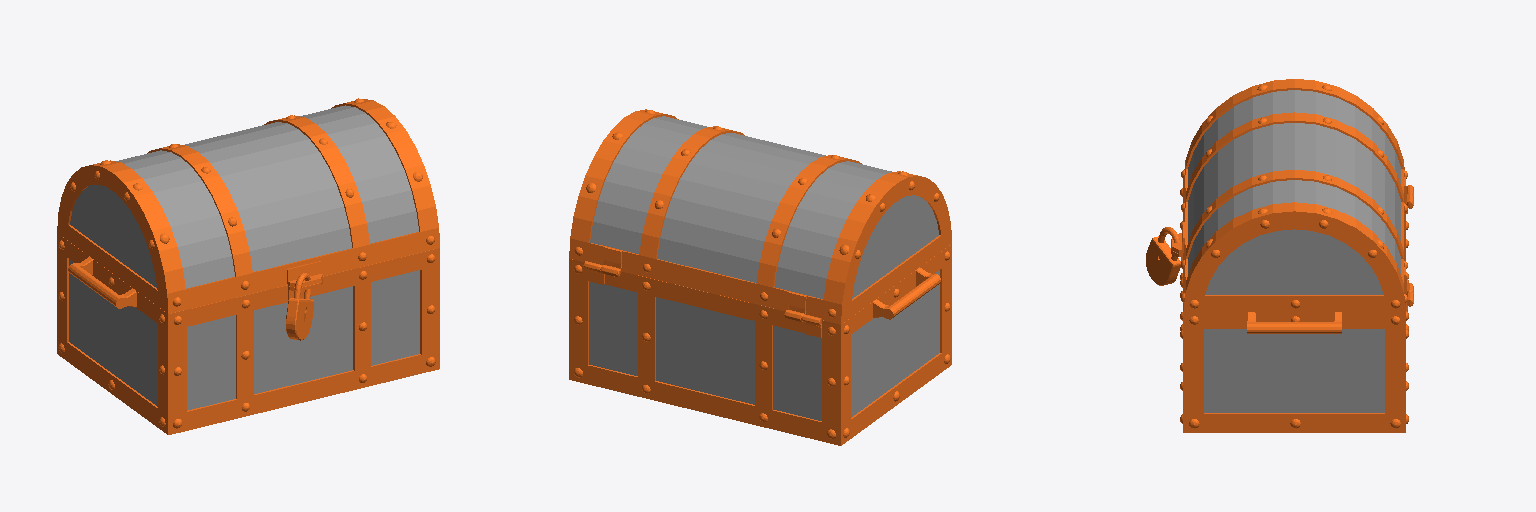
Rendered from chest.obj.
3 renders of one model, left to right at view 1: azimuth 30°, elevation 25°; view 2: azimuth 150°, elevation 25°; view 3: azimuth 270°, elevation 25°, orthographic.
Visible parts, largest first — view 1: chest_default; view 2: chest_default; view 3: chest_default.
Part boxes in pixels (x1,y1,x2,y2): chest_default: (57,98,439,434); chest_default: (569,109,951,445); chest_default: (1146,79,1413,432).
Bounding box in the file's own units: 1.86 × 1.26 × 1.38.